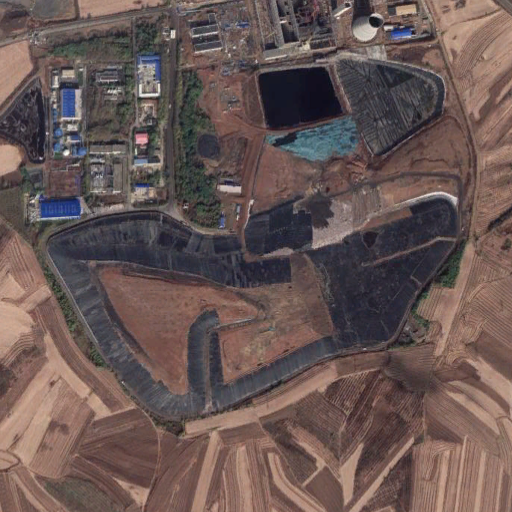lf: (48, 189, 461, 421)
